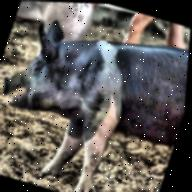boar: (0, 2, 192, 192)
